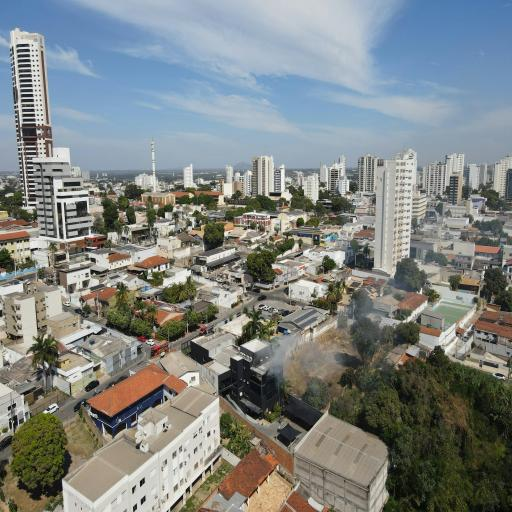smoke: (255, 335, 318, 383)
